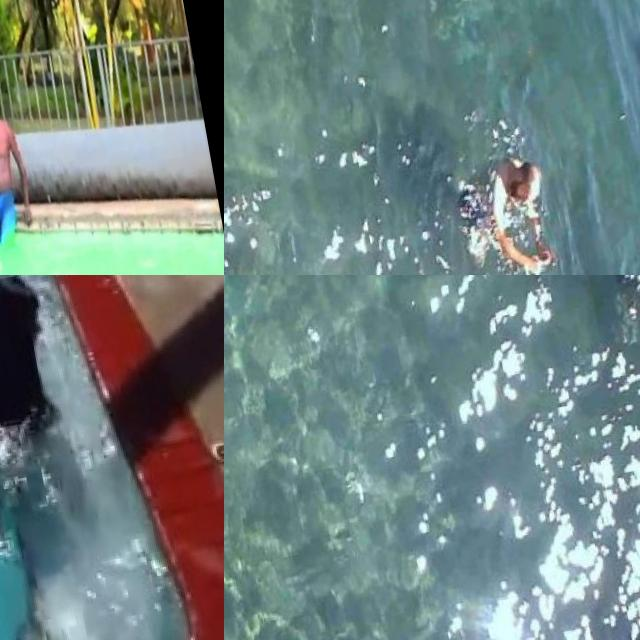out of water: (0, 88, 28, 255)
swimming: (0, 275, 79, 538), (442, 140, 580, 275), (573, 275, 640, 441)
